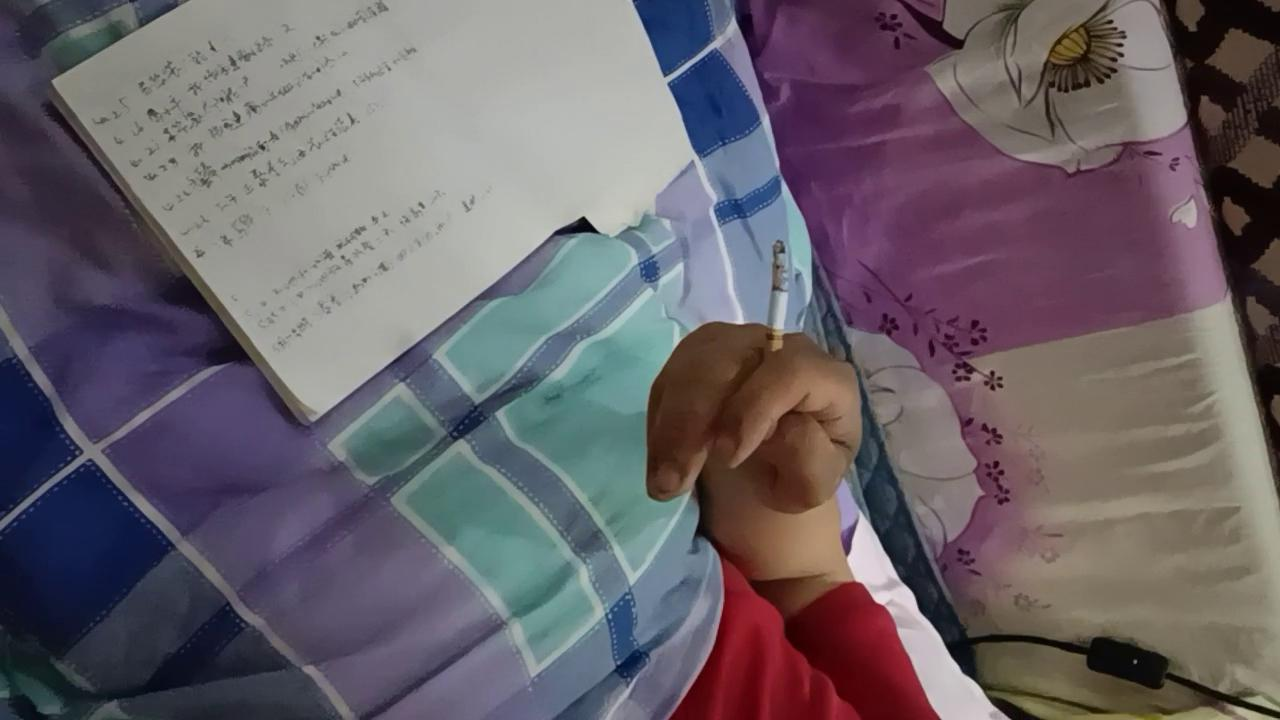smoke: (759, 240, 791, 391)
